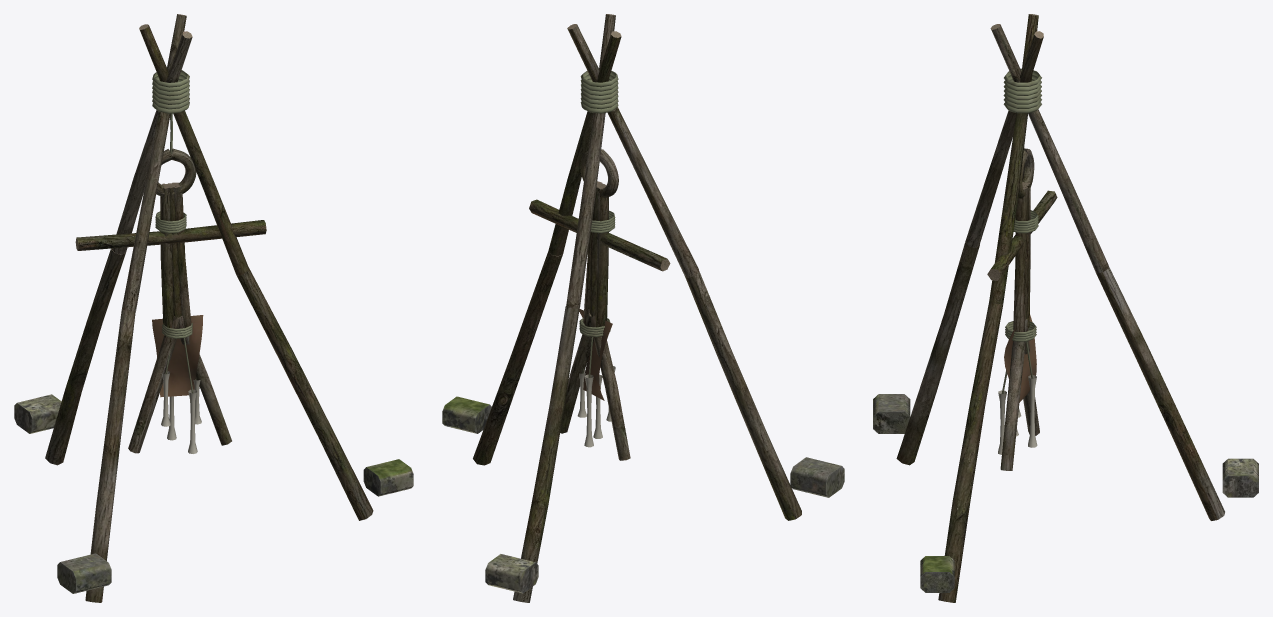
File: effigy.glb
3 views of the same model, side by side, from view 1: azimuth 30°, elevation 25°; view 2: azimuth 150°, elevation 25°; view 3: azimuth 270°, elevation 25° (orthographic).
Visible parts, largest first — view 1: effigy; view 2: effigy; view 3: effigy.
Part boxes in pixels (box(x1,y1,x2,y2)): effigy: box(14, 14, 413, 602); effigy: box(442, 14, 844, 602); effigy: box(873, 14, 1258, 602).
Size of the model in its own units: 1.81 by 2.42 by 1.68.
Materials: 1 (1 with a texture image).
